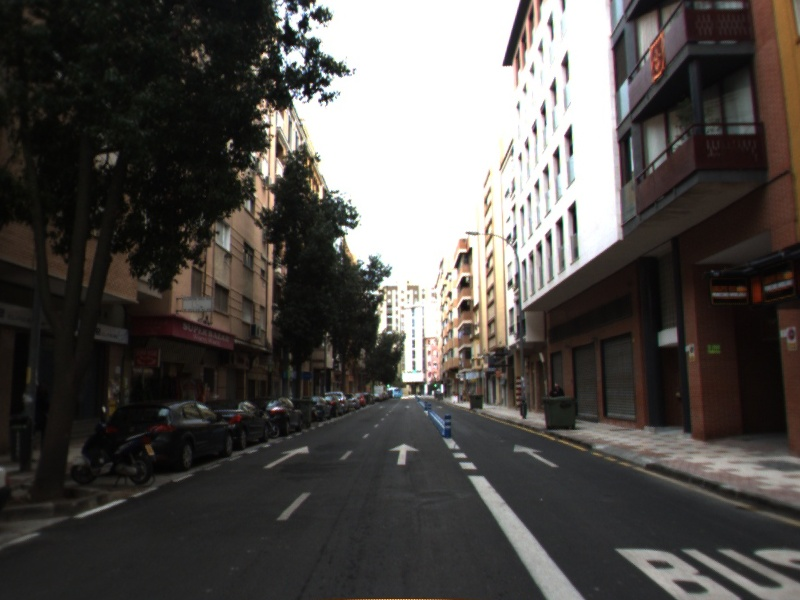STRAIGHT: (512, 442, 562, 469), (262, 444, 312, 470), (386, 442, 422, 467)
